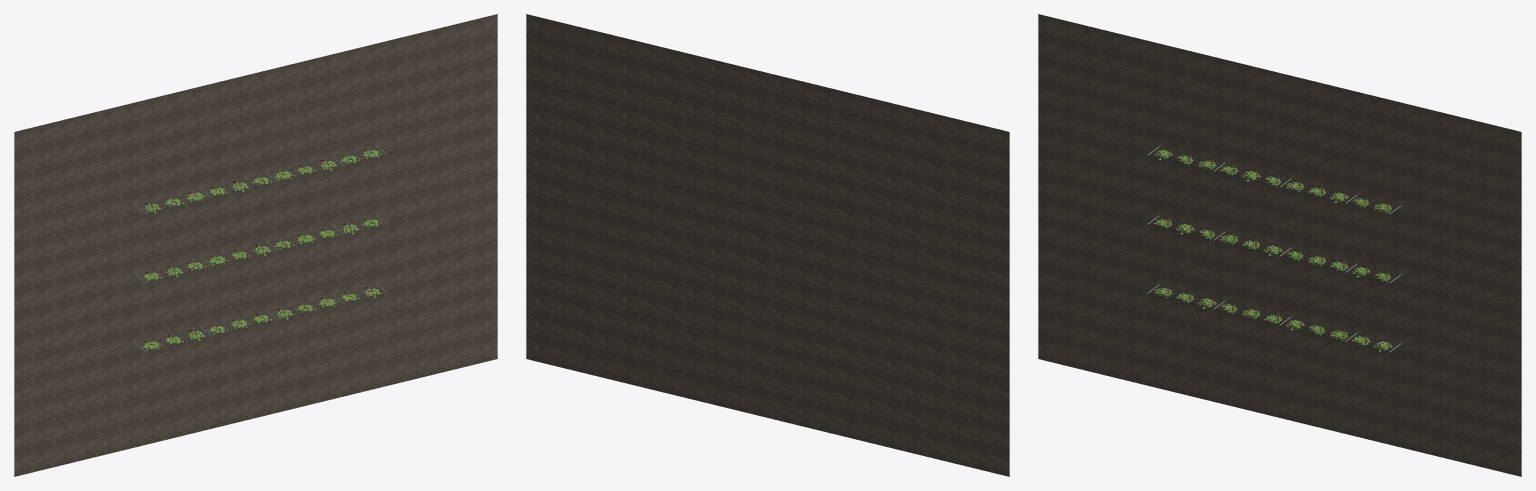
The picture shows the model from 3 angles, left to right: view 1: azimuth 30°, elevation 25°; view 2: azimuth 150°, elevation 25°; view 3: azimuth 330°, elevation 25°; orthographic projection.
Visible parts, largest first — view 1: Ground_Plane; view 2: Ground_Plane; view 3: Ground_Plane.
Part boxes in pixels (x1,y1,x2,y2): Ground_Plane: (14, 14, 497, 476); Ground_Plane: (526, 14, 1009, 476); Ground_Plane: (1038, 14, 1521, 476).
Size of the model in its own units: 44 by 30 by 1.8.
10 materials, 9 textured.
